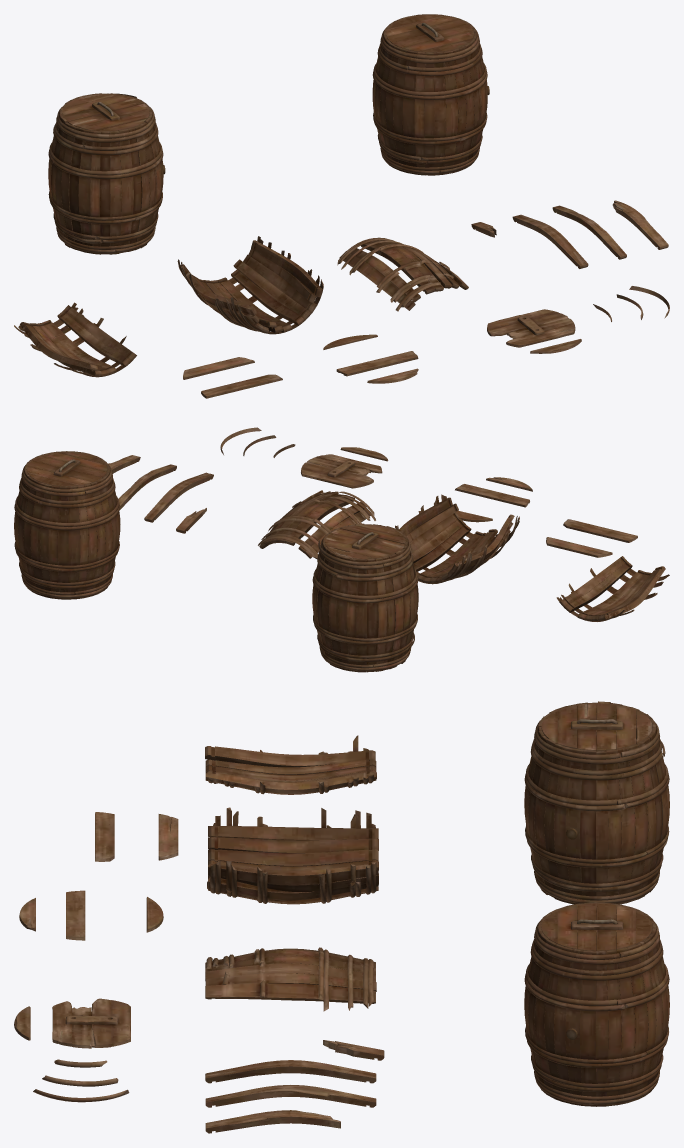
Rendered from barrel_low.glb.
3 renders of one model, top to bottom at view 1: azimuth 30°, elevation 25°; view 2: azimuth 150°, elevation 25°; view 3: azimuth 270°, elevation 25°, orthographic. The views are drawn at different scales.
Parts seen in each view (by area): view 1: wooden_barrels_01_barrel02, wooden_barrels_01_barrel01, wooden_barrels_01_piece01, wooden_barrels_01_piece03, wooden_barrels_01_piece02, wooden_barrels_01_piece08, wooden_barrels_01_piece04, wooden_barrels_01_piece05, wooden_barrels_01_piece06, wooden_barrels_01_piece11, wooden_barrels_01_piece14, wooden_barrels_01_piece13; view 2: wooden_barrels_01_barrel02, wooden_barrels_01_barrel01, wooden_barrels_01_piece01, wooden_barrels_01_piece03, wooden_barrels_01_piece02, wooden_barrels_01_piece08, wooden_barrels_01_piece04, wooden_barrels_01_piece14, wooden_barrels_01_piece11, wooden_barrels_01_piece05, wooden_barrels_01_piece13; view 3: wooden_barrels_01_barrel01, wooden_barrels_01_barrel02, wooden_barrels_01_piece01, wooden_barrels_01_piece03, wooden_barrels_01_piece02, wooden_barrels_01_piece08, wooden_barrels_01_piece04, wooden_barrels_01_piece05, wooden_barrels_01_piece06, wooden_barrels_01_piece11, wooden_barrels_01_piece14, wooden_barrels_01_piece13 (+1 smaller).
Boxes of the visible parts, x1,y1,x2,y2 form: wooden_barrels_01_barrel02: (48, 93, 165, 254); wooden_barrels_01_barrel01: (372, 14, 489, 175); wooden_barrels_01_piece01: (177, 236, 323, 334); wooden_barrels_01_piece03: (337, 237, 468, 311); wooden_barrels_01_piece02: (14, 302, 136, 377); wooden_barrels_01_piece08: (487, 309, 575, 347); wooden_barrels_01_piece04: (512, 214, 588, 268); wooden_barrels_01_piece05: (552, 205, 626, 259); wooden_barrels_01_piece06: (612, 200, 668, 249); wooden_barrels_01_piece11: (336, 351, 418, 376); wooden_barrels_01_piece14: (201, 374, 282, 398); wooden_barrels_01_piece13: (183, 357, 254, 379); wooden_barrels_01_barrel02: (312, 523, 418, 672); wooden_barrels_01_barrel01: (14, 451, 120, 599); wooden_barrels_01_piece01: (395, 494, 519, 584); wooden_barrels_01_piece03: (258, 490, 375, 558); wooden_barrels_01_piece02: (556, 556, 669, 621); wooden_barrels_01_piece08: (301, 454, 382, 488); wooden_barrels_01_piece04: (144, 472, 213, 522); wooden_barrels_01_piece14: (563, 519, 637, 542); wooden_barrels_01_piece11: (455, 484, 529, 507); wooden_barrels_01_piece05: (118, 464, 176, 510); wooden_barrels_01_piece13: (546, 537, 612, 557); wooden_barrels_01_barrel01: (524, 902, 669, 1106); wooden_barrels_01_barrel02: (524, 701, 669, 904); wooden_barrels_01_piece01: (207, 807, 378, 904); wooden_barrels_01_piece03: (205, 947, 376, 1011); wooden_barrels_01_piece02: (205, 735, 376, 794); wooden_barrels_01_piece08: (52, 998, 130, 1048); wooden_barrels_01_piece04: (205, 1060, 376, 1083); wooden_barrels_01_piece05: (205, 1085, 376, 1107); wooden_barrels_01_piece06: (205, 1110, 340, 1133); wooden_barrels_01_piece11: (66, 890, 85, 940); wooden_barrels_01_piece14: (95, 812, 114, 861); wooden_barrels_01_piece13: (158, 814, 178, 860).
Size of the model in its own units: 4.44 by 0.9567 by 3.34.
3 materials, 3 textured.
